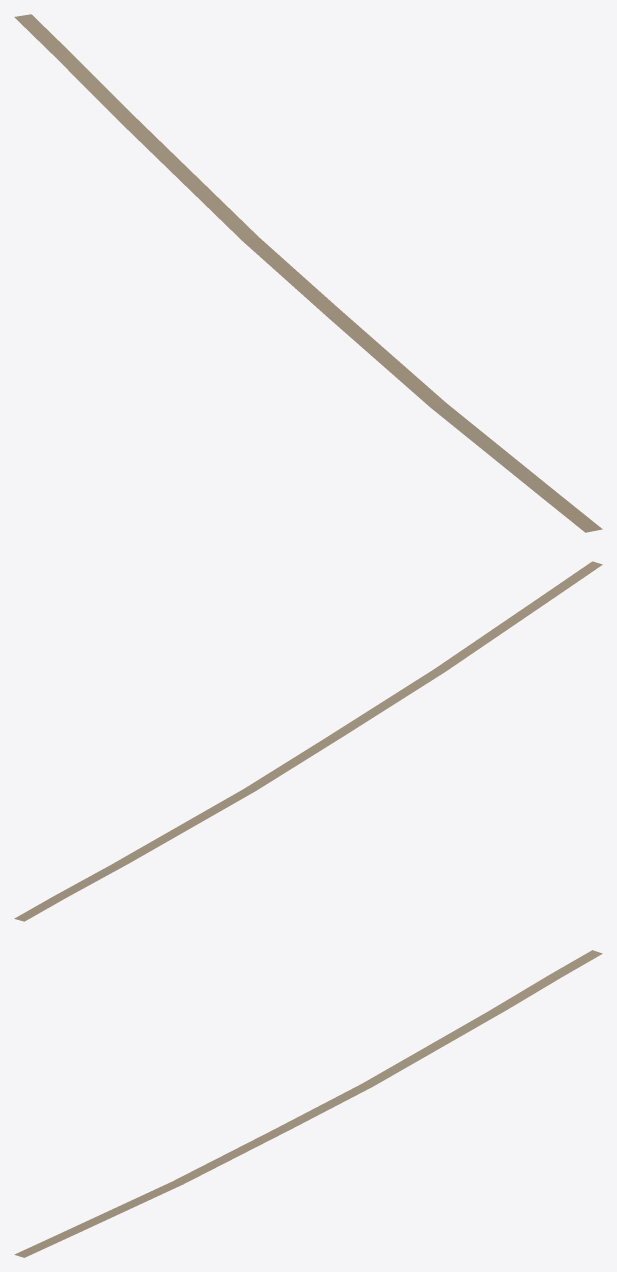
Rendered from farm_-4_9_track.glb.
3 views of the same model, one above another, from view 1: azimuth 30°, elevation 25°; view 2: azimuth 150°, elevation 25°; view 3: azimuth 330°, elevation 25° (orthographic). The views are drawn at different scales.
Parts seen in each view (by area): view 1: geometry_0; view 2: geometry_0; view 3: geometry_0.
Part boxes in pixels (x1,y1,x2,y2): geometry_0: (14, 14, 602, 532); geometry_0: (14, 561, 602, 921); geometry_0: (14, 950, 602, 1257).
Bounding box in the file's own units: 30.86 × 7.83 × 244.
